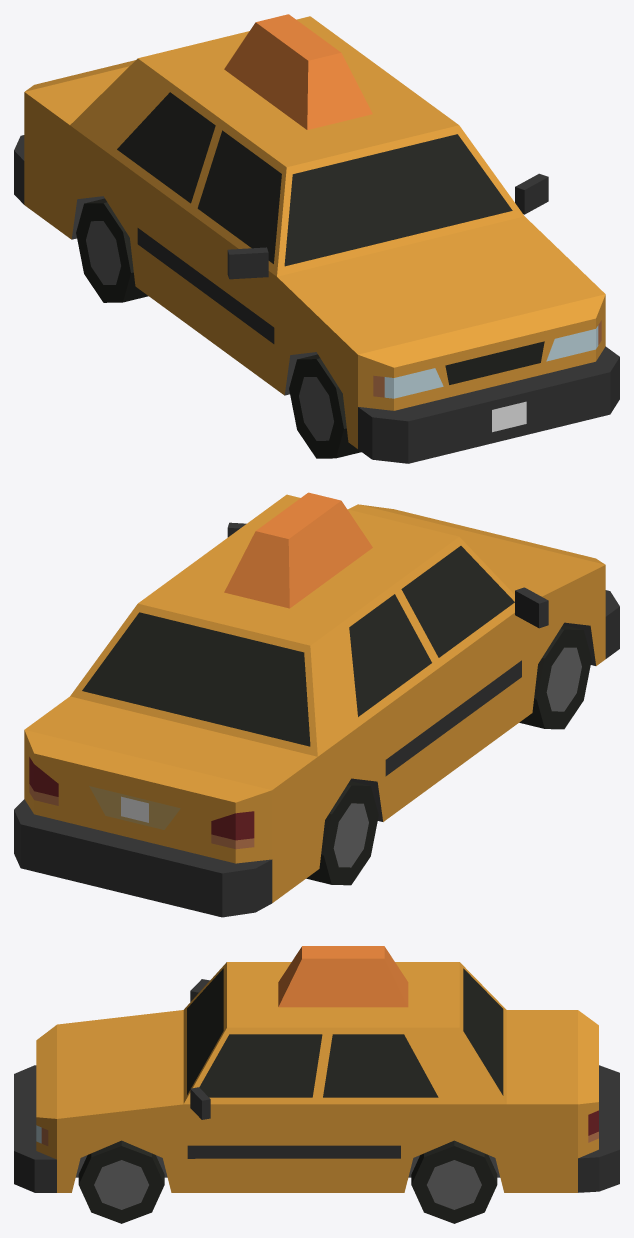
The model's file is Veh_Taxi.glb.
3 views of the same model, one above another, from view 1: azimuth 30°, elevation 25°; view 2: azimuth 150°, elevation 25°; view 3: azimuth 270°, elevation 25° (orthographic). The views are drawn at different scales.
Parts seen in each view (by area): view 1: Taxi, Wheel_RR, Wheel_FR; view 2: Taxi, Wheel_FR, Wheel_RR; view 3: Taxi, Wheel_FL, Wheel_RL.
Boxes of the visible parts, bbox=[...] form: Taxi: bbox=[14, 14, 619, 463]; Wheel_RR: bbox=[76, 198, 148, 302]; Wheel_FR: bbox=[289, 354, 361, 458]; Taxi: bbox=[14, 492, 619, 917]; Wheel_FR: bbox=[519, 625, 591, 729]; Wheel_RR: bbox=[306, 781, 378, 885]; Taxi: bbox=[14, 946, 619, 1192]; Wheel_FL: bbox=[78, 1140, 164, 1223]; Wheel_RL: bbox=[411, 1140, 497, 1223].
Bounding box in the file's own units: 1.22 × 1.05 × 2.57.
1 material, 1 textured.
